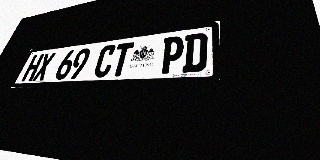6: (53, 49, 78, 80)
9: (67, 47, 92, 79)
C: (92, 44, 118, 78)
D: (182, 32, 208, 73)
H: (21, 54, 44, 82)
P: (159, 35, 185, 74)
T: (109, 42, 134, 77)
X: (32, 52, 56, 81)
